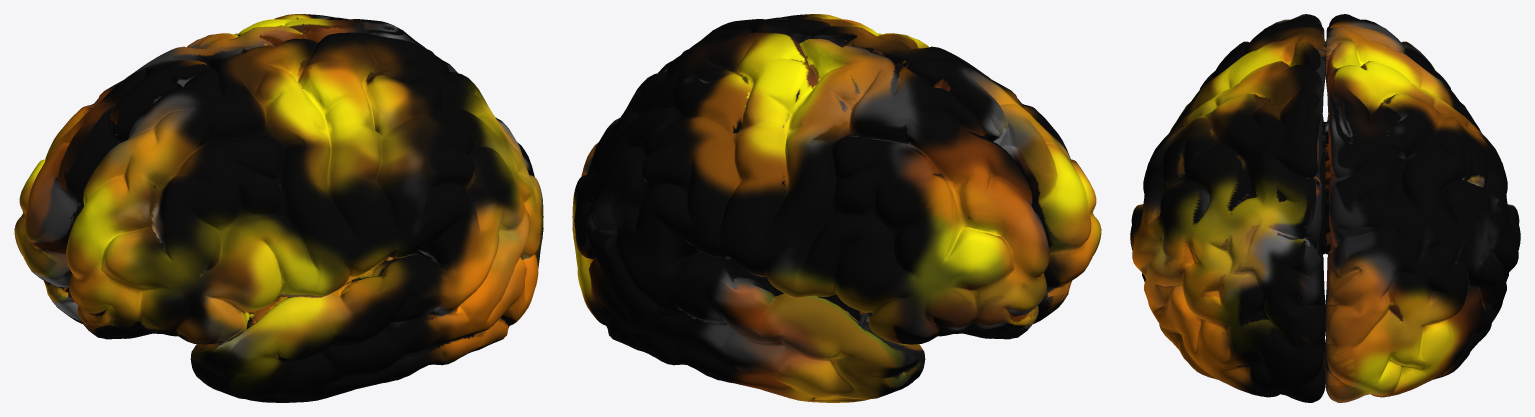
File: feetComp.glb
The picture shows the model from 3 angles, left to right: view 1: azimuth 30°, elevation 25°; view 2: azimuth 150°, elevation 25°; view 3: azimuth 270°, elevation 25°; orthographic projection. The views are drawn at different scales.
Visible parts, largest first — view 1: Right, Left; view 2: Left, Right; view 3: Right, Left.
Part boxes in pixels (x1,y1,x2,y2): Right: [66, 32, 543, 402]; Left: [14, 14, 457, 336]; Left: [572, 32, 1049, 402]; Right: [658, 14, 1101, 336]; Right: [1130, 14, 1327, 402]; Left: [1323, 14, 1520, 402].
Bounding box in the file's own units: 1.32 × 0.8372 × 1.06.
2 materials, 2 textured.
